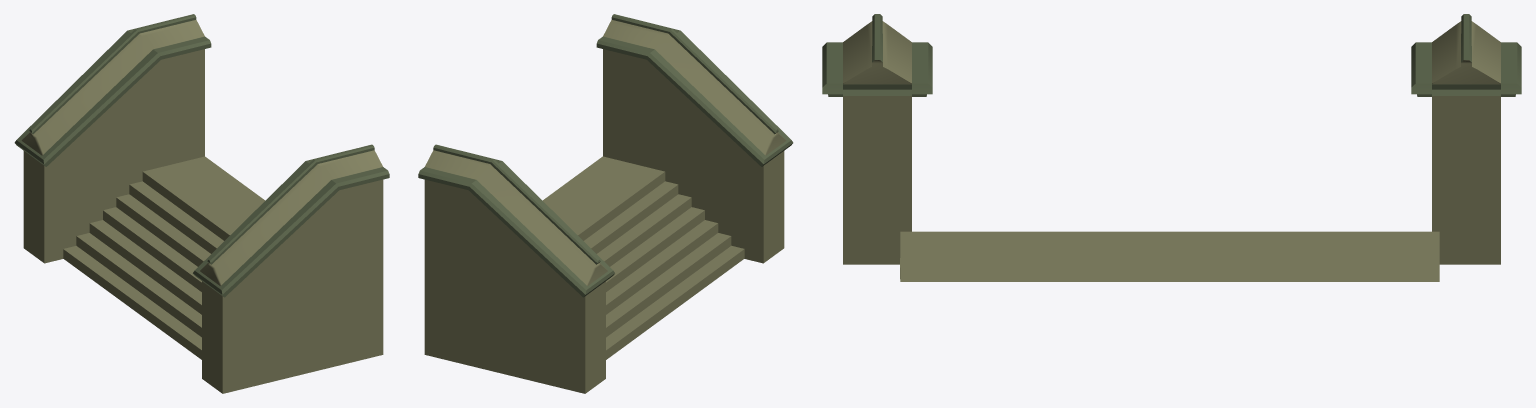
Rendered from stairs01.fbx.
The picture shows the model from 3 angles, left to right: view 1: azimuth 30°, elevation 25°; view 2: azimuth 150°, elevation 25°; view 3: azimuth 270°, elevation 25°; orthographic projection. The views are drawn at different scales.
Parts seen in each view (by area): view 1: stairs01; view 2: stairs01; view 3: stairs01.
Part boxes in pixels (x1,y1,x2,y2): stairs01: (14,14,389,393); stairs01: (418,14,793,393); stairs01: (822,14,1521,281).
Bounding box in the file's own units: 2.3 × 2.68 × 5.09.
